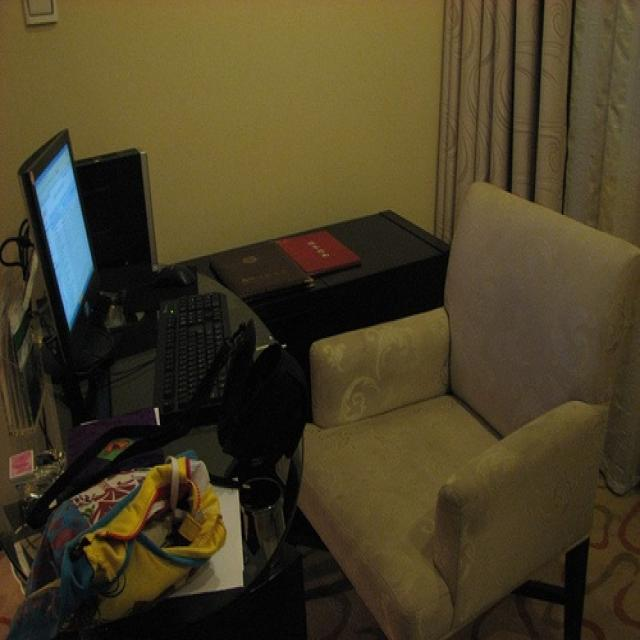chair: (276, 182, 640, 637)
tvmonitor: (15, 127, 102, 349)
